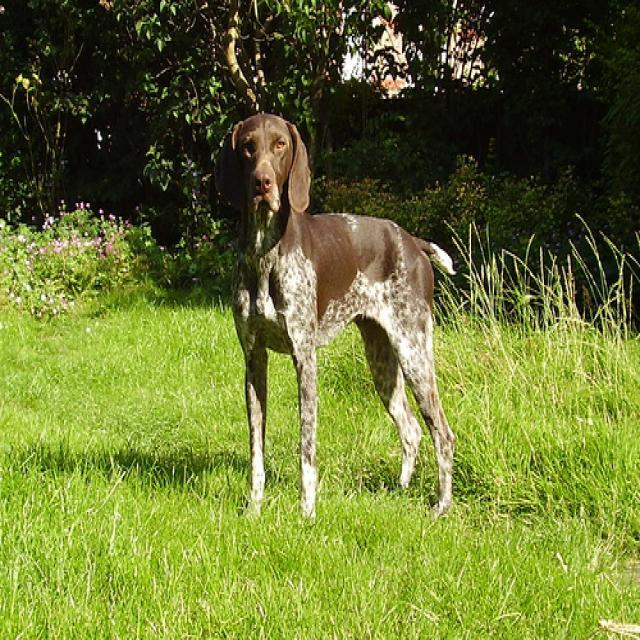dog-german_shorthaired: (215, 108, 457, 522)
